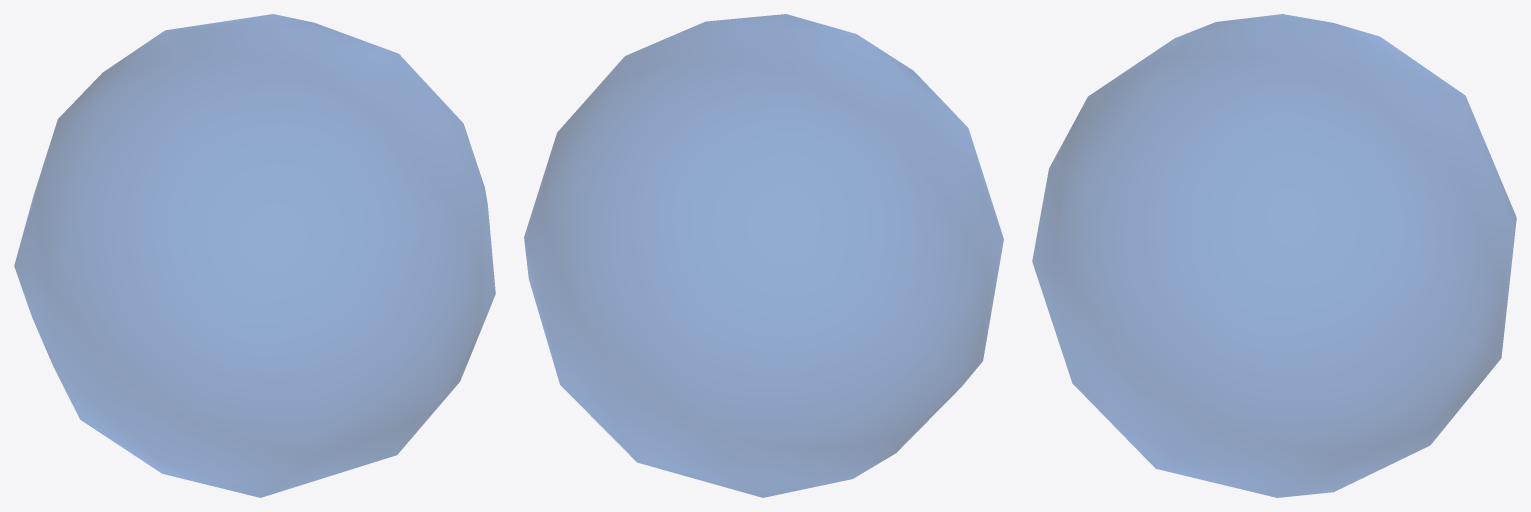
The model's file is bubble.obj.
3 views of the same model, side by side, from view 1: azimuth 30°, elevation 25°; view 2: azimuth 150°, elevation 25°; view 3: azimuth 270°, elevation 25° (orthographic).
Visible parts, largest first — view 1: Sphere; view 2: Sphere; view 3: Sphere.
Boxes of the visible parts, x1,y1,x2,y2 form: Sphere: (14,14,495,497); Sphere: (524,14,1003,497); Sphere: (1032,14,1516,497).
Size of the model in its own units: 2.01 by 2.01 by 2.01.
